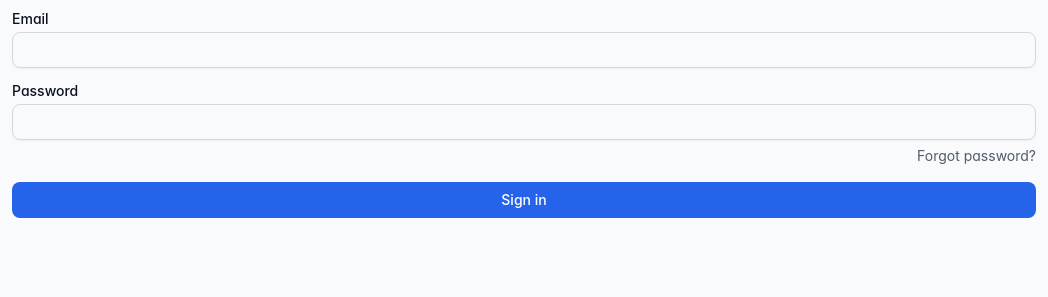
Test: LoginForm › shows a network failure without losing the form
This screenshot has width=1048, height=297.
Type "dana@acme.com" into the field labelled "Email" at (524, 50), box [12, 32, 1036, 68]
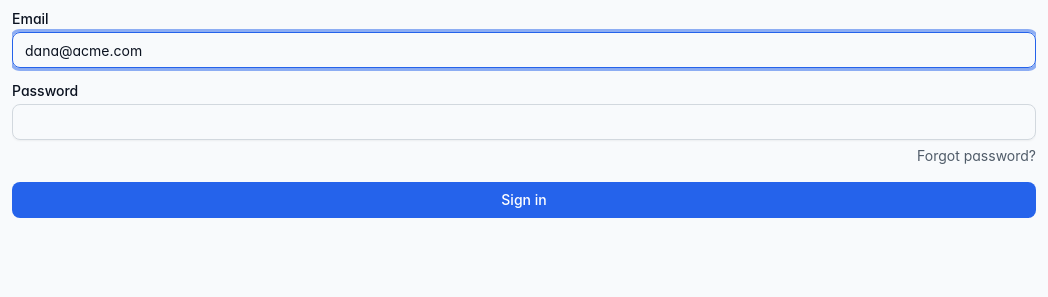
Type "hunter2 hunter2" into the password field labelled "Password" at (524, 122), box [12, 104, 1036, 140]
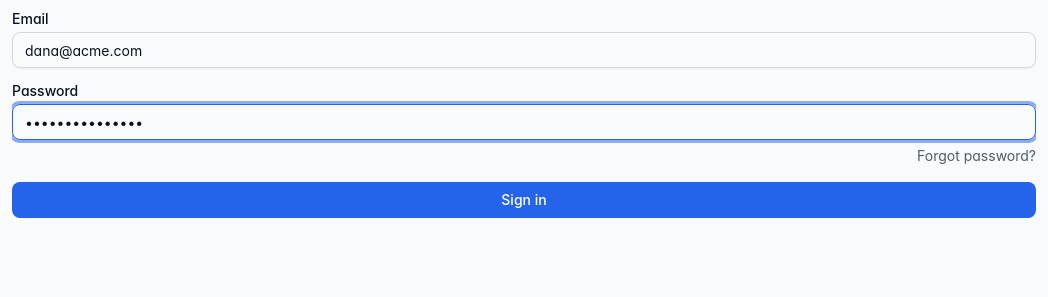
Click the button "Sign in" at (524, 200), box [12, 182, 1036, 218]
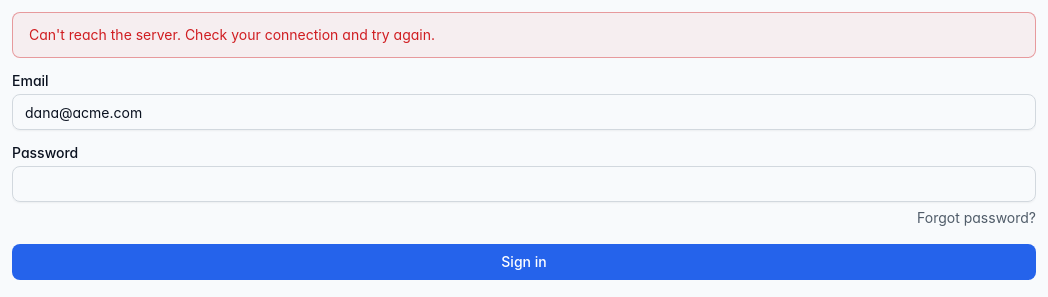
Result: the message shows "Can't reach the server" at [29, 26, 435, 43]
